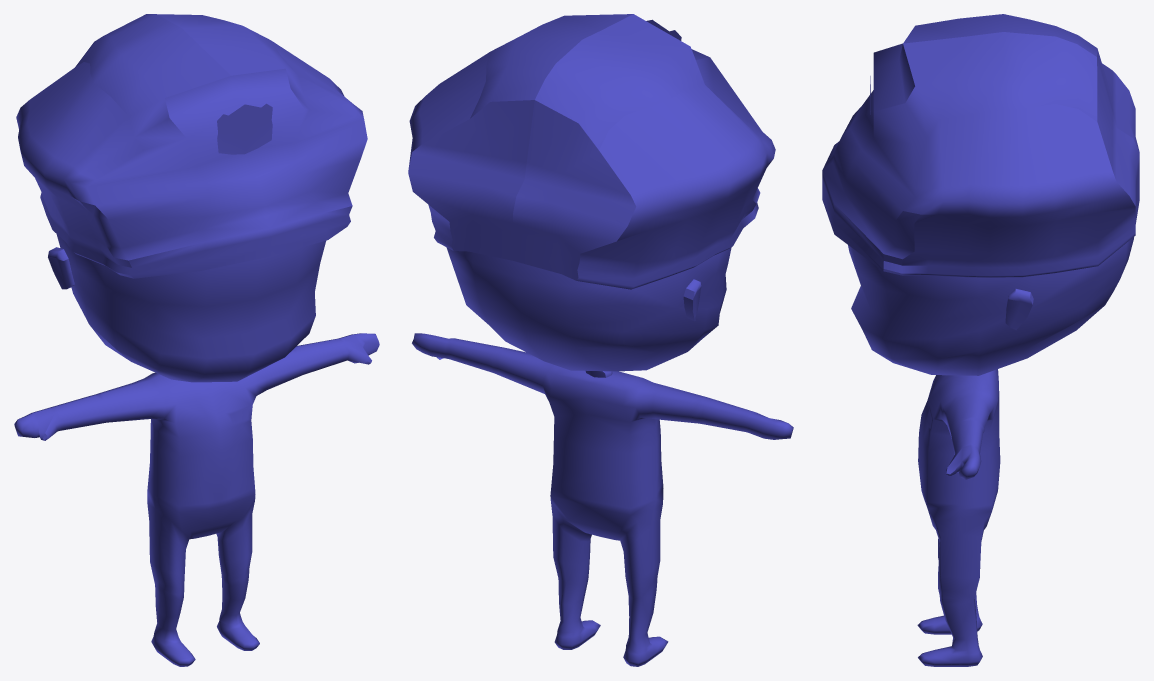
The model's file is Guard1.fbx.
3 views of the same model, side by side, from view 1: azimuth 30°, elevation 25°; view 2: azimuth 150°, elevation 25°; view 3: azimuth 270°, elevation 25° (orthographic). The views are drawn at different scales.
Visible parts, largest first — view 1: patrol_hat, patrol_guard; view 2: patrol_hat, patrol_guard; view 3: patrol_hat, patrol_guard.
Part boxes in pixels (x1=…): patrol_hat: x1=16, y1=14, x2=367, y2=278; patrol_guard: x1=14, y1=234, x2=379, y2=666; patrol_hat: x1=408, y1=14, x2=775, y2=289; patrol_guard: x1=412, y1=247, x2=793, y2=666; patrol_hat: x1=822, y1=14, x2=1139, y2=277; patrol_guard: x1=848, y1=237, x2=1133, y2=666.
Bounding box in the file's own units: 132 × 209 × 97.74.
